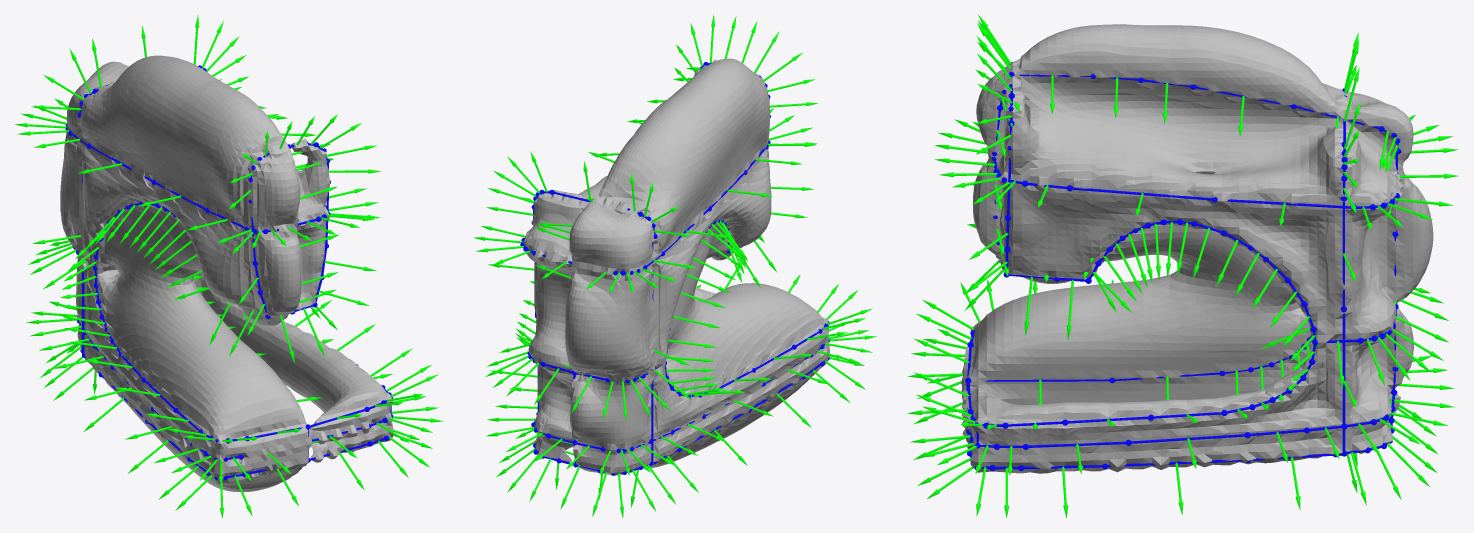
Rendered from t2f_sewing_machine.gltf.
The picture shows the model from 3 angles, left to right: view 1: azimuth 30°, elevation 25°; view 2: azimuth 150°, elevation 25°; view 3: azimuth 270°, elevation 25°; orthographic projection. The views are drawn at different scales.
Size of the model in its own units: 0.5807 by 0.7876 by 0.8864.
